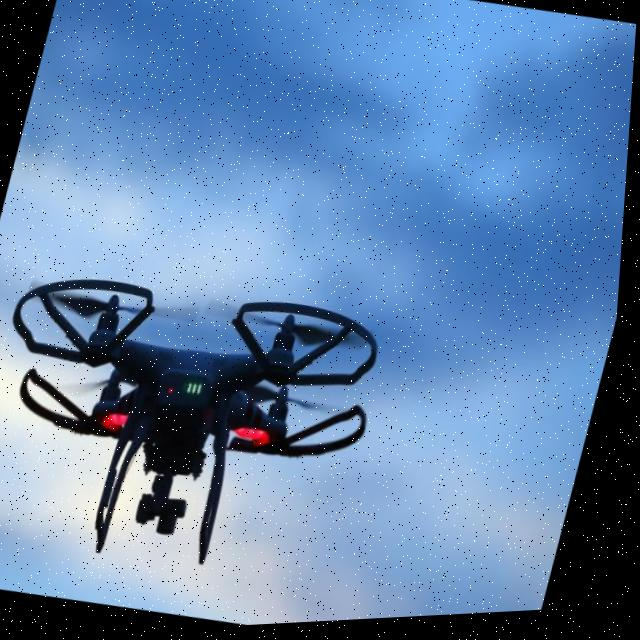drones: (0, 204, 418, 617)
